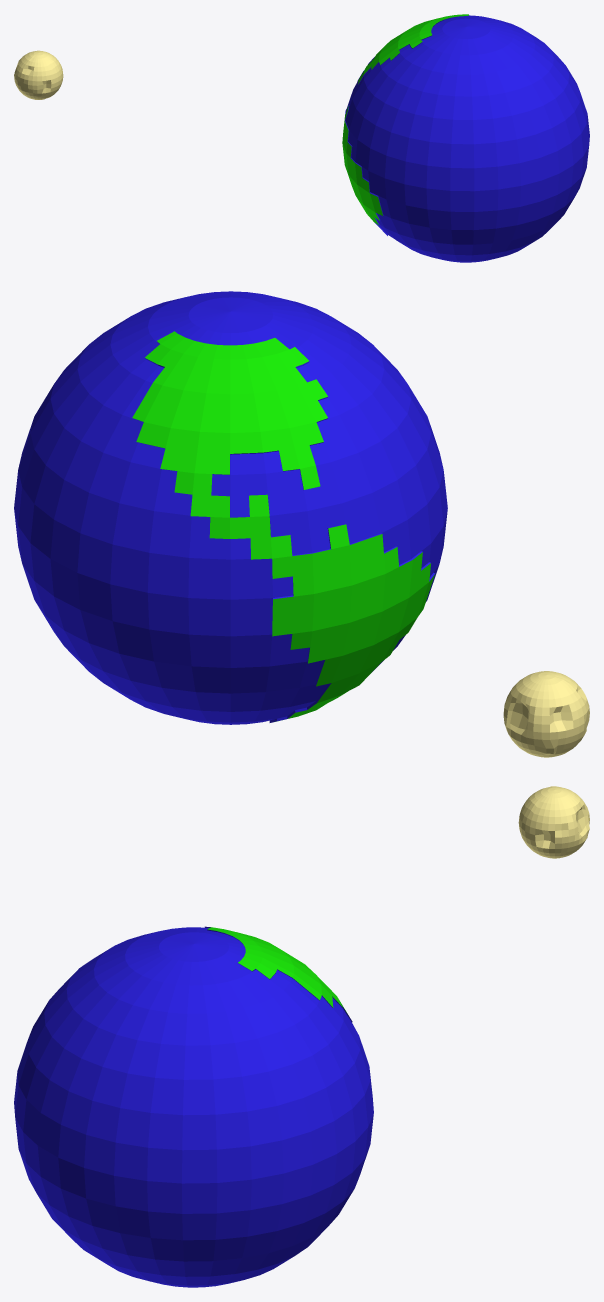
Rendered from Level3.fbx.
The picture shows the model from 3 angles, top to bottom: view 1: azimuth 30°, elevation 25°; view 2: azimuth 150°, elevation 25°; view 3: azimuth 270°, elevation 25°; orthographic projection. The views are drawn at different scales.
Parts seen in each view (by area): view 1: Earth, Moon; view 2: Earth, Moon; view 3: Earth, Moon.
Part boxes in pixels (<box>): Earth: <box>342,14,589,262</box>; Moon: <box>14,50,63,99</box>; Earth: <box>14,291,447,724</box>; Moon: <box>503,671,589,757</box>; Earth: <box>14,926,373,1287</box>; Moon: <box>518,786,589,858</box>.
Size of the model in its own units: 2524 by 1252 by 1998.
